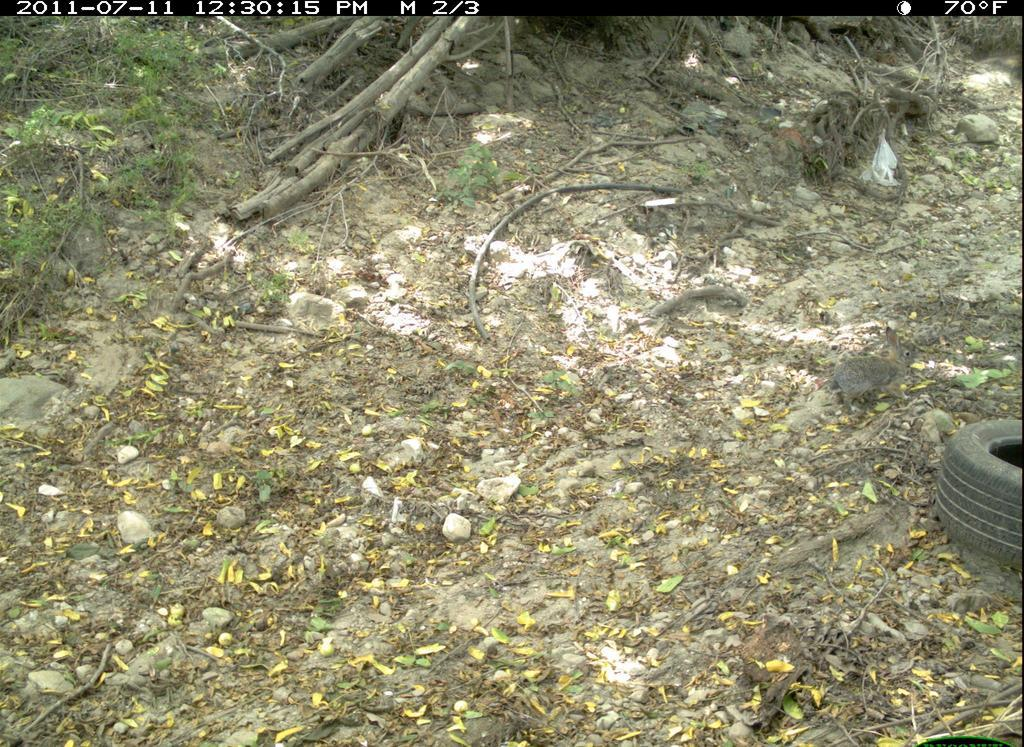rabbit: (826, 326, 922, 423)
